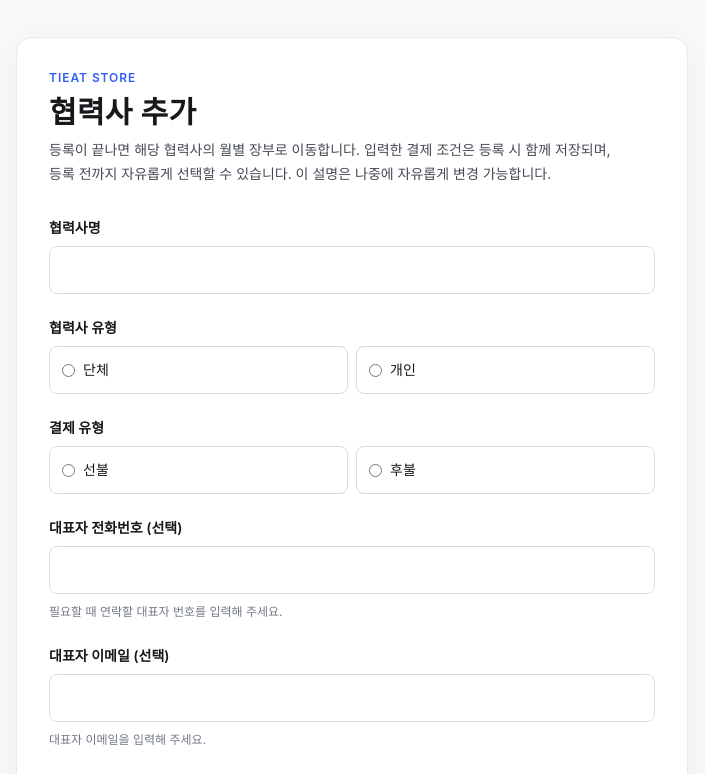
StorePartnerRegistrationForm › does not auto-retry or offer a new key after a 409 conflict
Type "충돌 협력사" into the field labelled "협력사명". click: (352, 270)
box: left=49, top=246, right=655, bottom=294
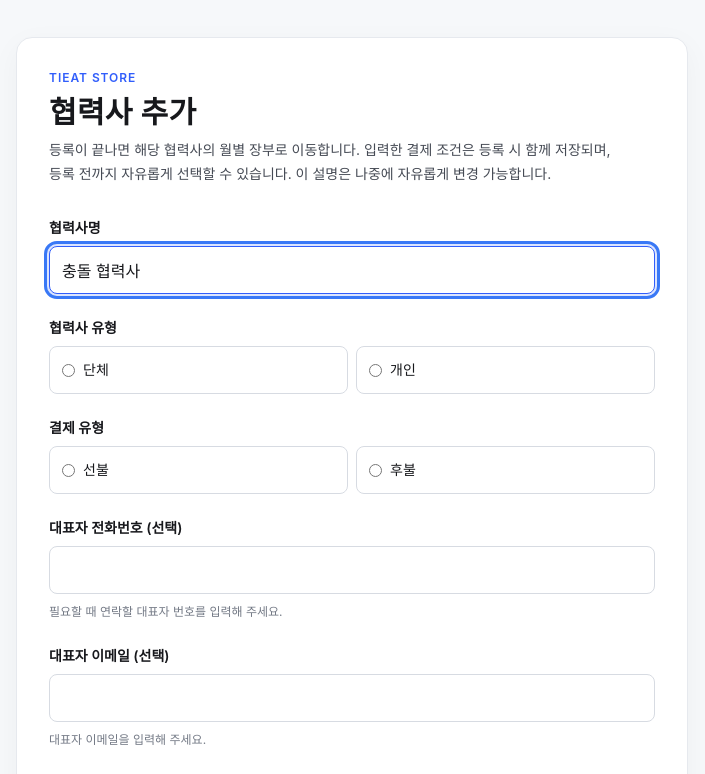
Click the radio button labelled "단체". click: (68, 370)
box: left=62, top=364, right=75, bottom=376
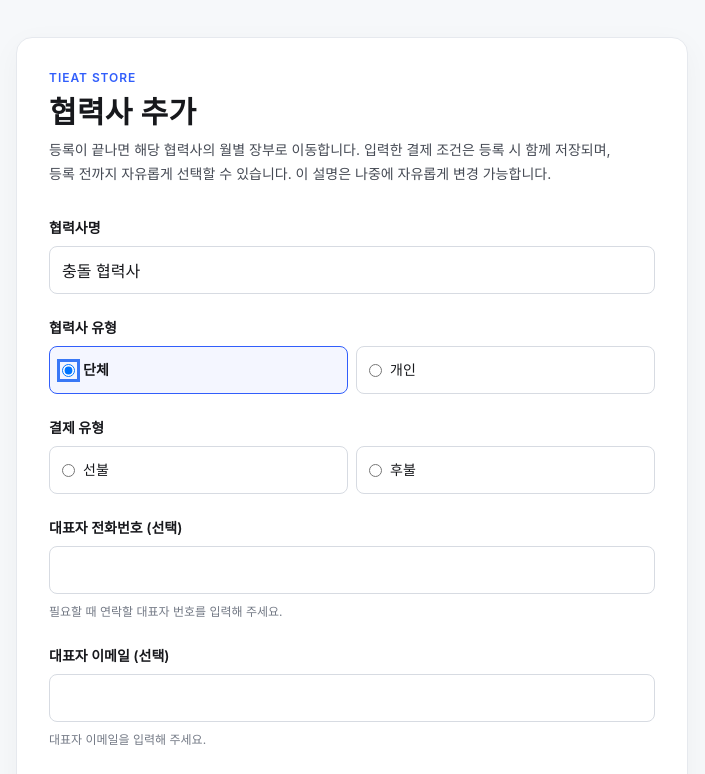
Click the radio button labelled "후불". click: (376, 470)
box: left=369, top=464, right=382, bottom=476
(page scrolled)
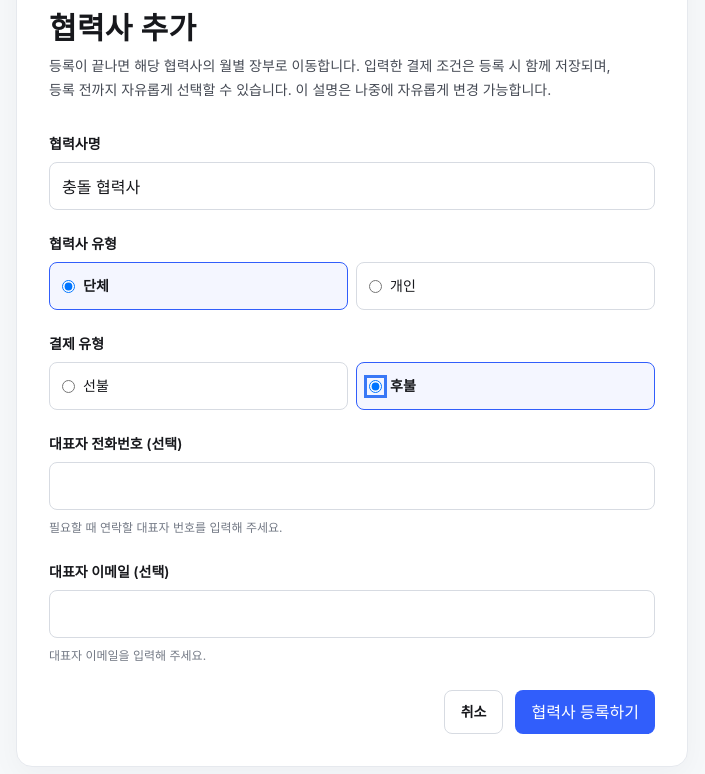
Click the button "협력사 등록하기". click: (585, 712)
box: left=516, top=690, right=655, bottom=734
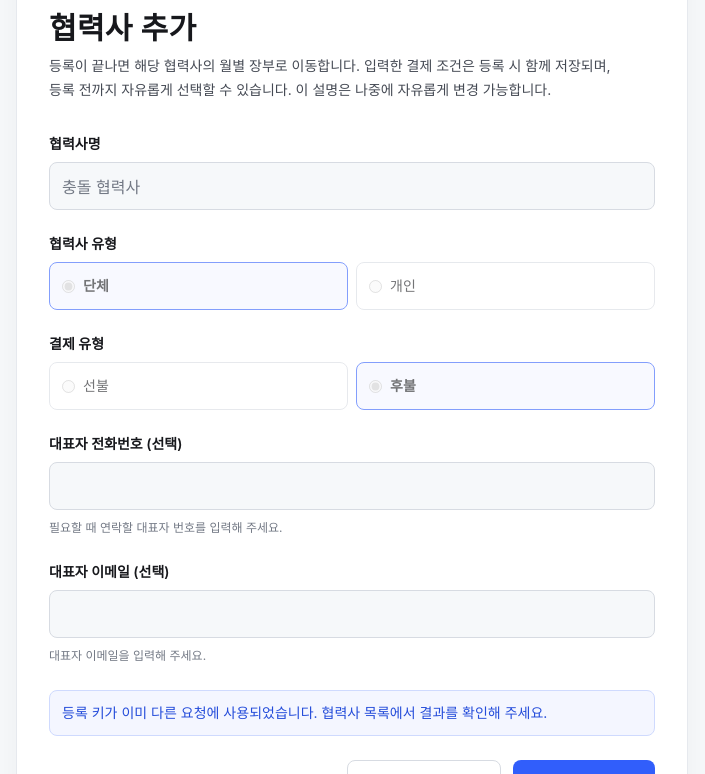
Expected: the message shows "협력사 목록에서 결과를 확인", left=62, top=704, right=547, bottom=721
Expected: the field labelled "협력사명" is disabled, left=49, top=162, right=655, bottom=210
